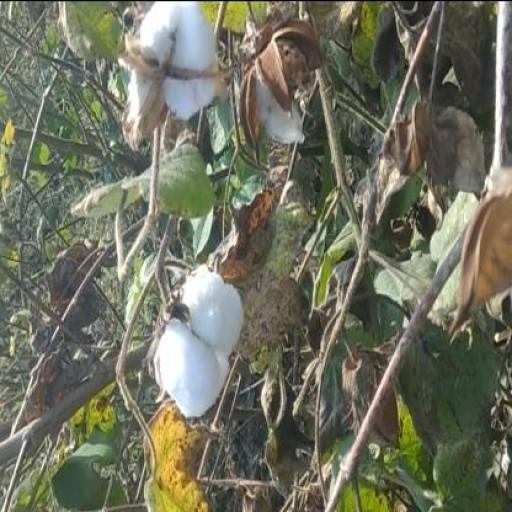cotton_ready: (139, 258, 265, 442), (105, 6, 240, 171)
